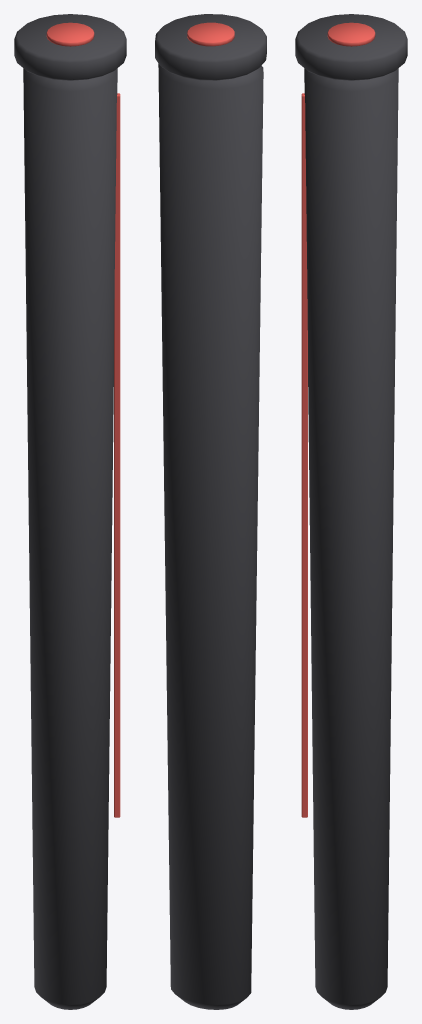
The picture shows the model from 3 angles, left to right: view 1: azimuth 90°, elevation 25°; view 2: azimuth 150°, elevation 25°; view 3: azimuth 270°, elevation 25°; orthographic projection.
Visible parts, largest first — view 1: PutterGrip; view 2: PutterGrip; view 3: PutterGrip.
Boxes of the visible parts, x1,y1,x2,y2 form: PutterGrip: (14,14,126,1009); PutterGrip: (155,14,266,1009); PutterGrip: (295,14,407,1009).
Bounding box in the file's own units: 0.0282 × 0.2671 × 0.0282.
